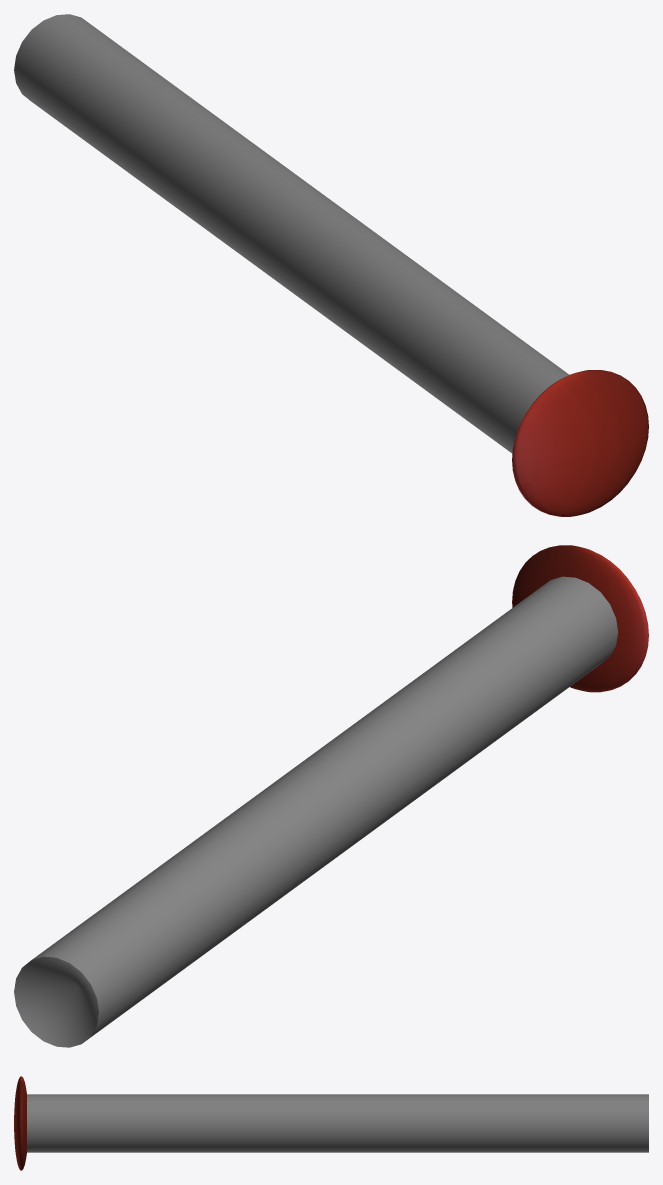
File: Plunger.obj
3 views of the same model, one above another, from view 1: azimuth 30°, elevation 25°; view 2: azimuth 150°, elevation 25°; view 3: azimuth 270°, elevation 25° (orthographic). The views are drawn at different scales.
Parts seen in each view (by area): view 1: Plunger PinballInternals PinballMachine; view 2: Plunger PinballInternals PinballMachine; view 3: Plunger PinballInternals PinballMachine.
Boxes of the visible parts, <box> form: Plunger PinballInternals PinballMachine: <box>14,14,648,516</box>; Plunger PinballInternals PinballMachine: <box>14,545,648,1047</box>; Plunger PinballInternals PinballMachine: <box>14,1076,648,1170</box>.
Bounding box in the file's own units: 12.21 × 12.21 × 81.83.
2 materials, 1 textured.
